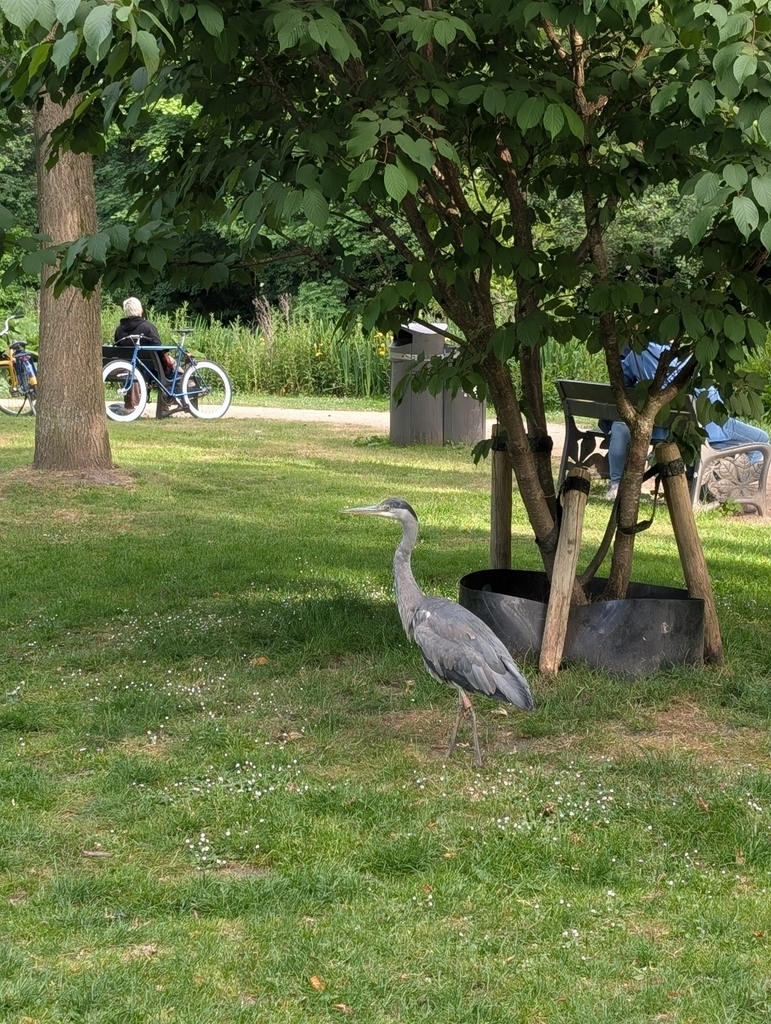heron: (334, 496, 535, 787)
